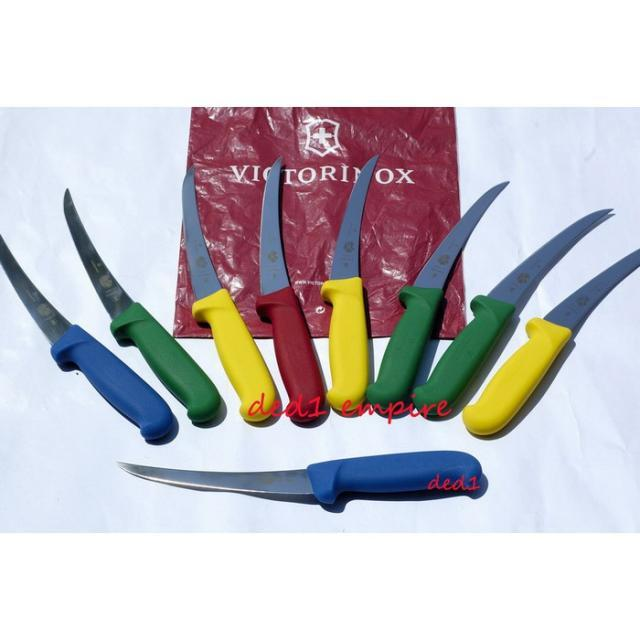Pisau: (316, 145, 376, 408)
